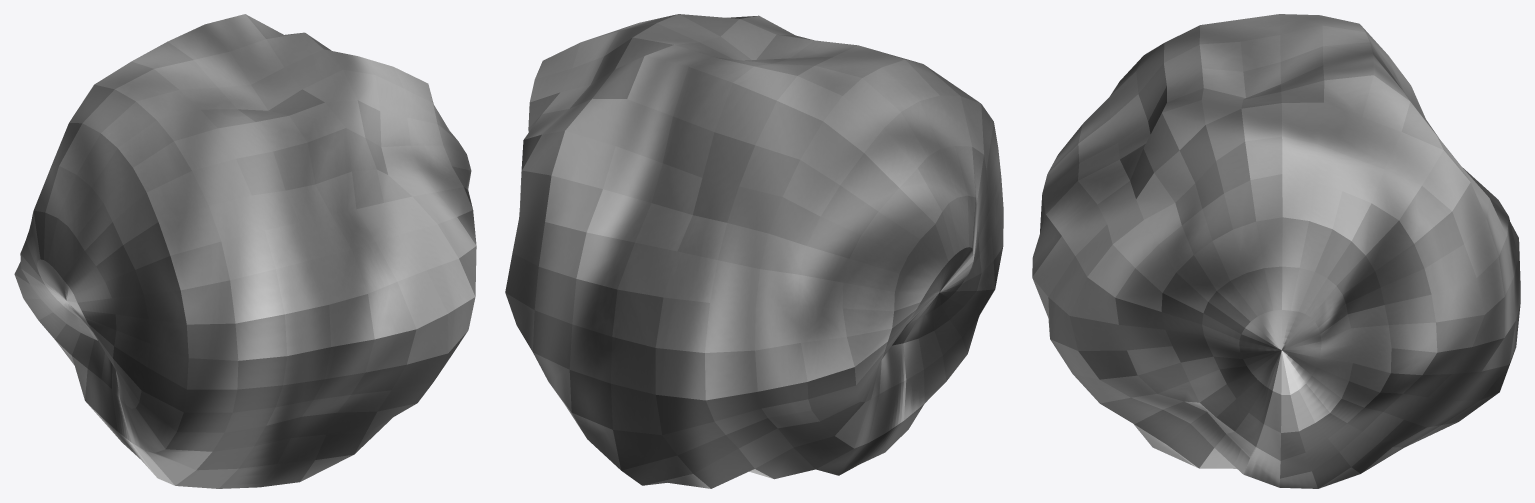
File: Rocks2.fbx
3 views of the same model, side by side, from view 1: azimuth 30°, elevation 25°; view 2: azimuth 150°, elevation 25°; view 3: azimuth 270°, elevation 25° (orthographic). The views are drawn at different scales.
Visible parts, largest first — view 1: Sphere.002; view 2: Sphere.002; view 3: Sphere.002.
Part boxes in pixels (x1,y1,x2,y2): Sphere.002: (14, 14, 476, 488); Sphere.002: (505, 14, 1003, 488); Sphere.002: (1032, 14, 1520, 488).
Bounding box in the file's own units: 216 × 202 × 222.
